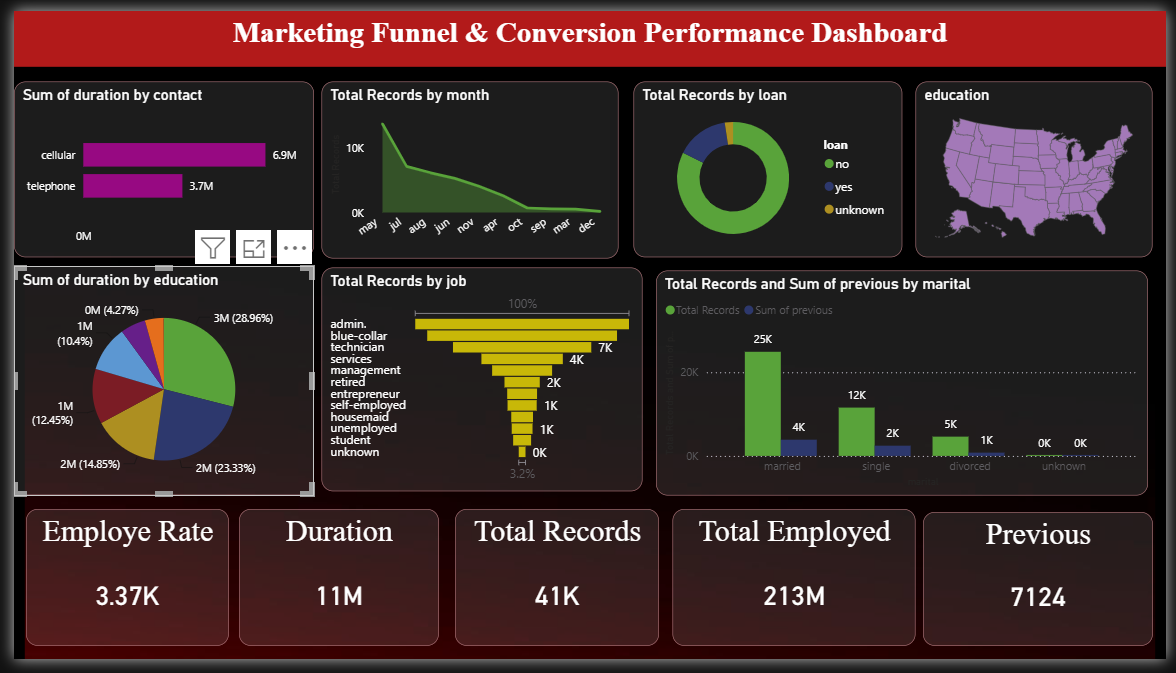

The dashboard page shown, as its layout file describes it:
{"tool":"powerbi","page":{"name":"Page 1","canvas":[1280,720],"ordinal":0},"visuals":[{"type":"clusteredBarChart","fields":{"Category":["bank-additional-full.contact"],"Y":["Sum(bank-additional-full.duration)"]},"box":[0,77.8,333.3,195.6],"z":0},{"type":"donutChart","fields":{"Category":["bank-additional-full.loan"],"Y":["Table.Total Records"]},"box":[688.3,78.3,298.3,195],"z":1000},{"type":"funnel","fields":{"Category":["bank-additional-full.job"],"Y":["Table.Total Records"]},"box":[341.7,285,356.7,248.3],"z":2000},{"type":"pieChart","fields":{"Y":["Sum(bank-additional-full.duration)"],"Category":["bank-additional-full.education"]},"box":[0,283.3,333.3,254.4],"z":3000},{"type":"shapeMap","fields":{"Series":["bank-additional-full.education"]},"box":[1001.7,78.3,263.3,195],"z":3001},{"type":"textbox","box":[0,0,1280,62.2],"z":3002},{"type":"stackedAreaChart","fields":{"Category":["bank-additional-full.month"],"Y":["Table.Total Records"]},"box":[341.7,78.3,330,196.7],"z":3003},{"type":"card","title":"Employe Rate","fields":{"Values":["Sum(bank-additional-full.emp.var.rate)"]},"box":[13.3,553.3,225,151.7],"z":3004},{"type":"card","title":"Total Employed","fields":{"Values":["Sum(bank-additional-full.nr.employed)"]},"box":[731.7,553.3,270,151.7],"z":3005},{"type":"card","title":"Duration","fields":{"Values":["Sum(bank-additional-full.duration)"]},"box":[250,553.3,221.7,151.7],"z":3006},{"type":"card","title":"Total Records","fields":{"Values":["Table.Total Records"]},"box":[490,553.3,226.7,151.7],"z":3007},{"type":"card","title":"Previous","fields":{"Values":["Sum(bank-additional-full.previous)"]},"box":[1010,556.7,255,148.3],"z":3008},{"type":"clusteredColumnChart","fields":{"Y":["Table.Total Records","Sum(bank-additional-full.previous)"],"Category":["bank-additional-full.marital"]},"box":[713.3,288.3,546.7,250],"z":3009}]}

Visuals, with their boxes in screenshot pixels (x1, y1, x2, y2), scaled from the page's 1280x720 canvas onto the 1176x673 screenshot:
clusteredBarChart - bank-additional-full.contact x Sum(bank-additional-full.duration): l=0, t=73, r=306, b=256
donutChart - bank-additional-full.loan x Table.Total Records: l=632, t=73, r=906, b=255
funnel - bank-additional-full.job x Table.Total Records: l=314, t=266, r=642, b=498
pieChart - Sum(bank-additional-full.duration) x bank-additional-full.education: l=0, t=265, r=306, b=503
shapeMap - bank-additional-full.education: l=920, t=73, r=1162, b=255
textbox: l=0, t=0, r=1175, b=58
stackedAreaChart - bank-additional-full.month x Table.Total Records: l=314, t=73, r=617, b=257
"Employe Rate" card: l=12, t=517, r=219, b=659
"Total Employed" card: l=672, t=517, r=920, b=659
"Duration" card: l=230, t=517, r=433, b=659
"Total Records" card: l=450, t=517, r=658, b=659
"Previous" card: l=928, t=520, r=1162, b=659
clusteredColumnChart - Table.Total Records x Sum(bank-additional-full.previous): l=655, t=269, r=1158, b=503
